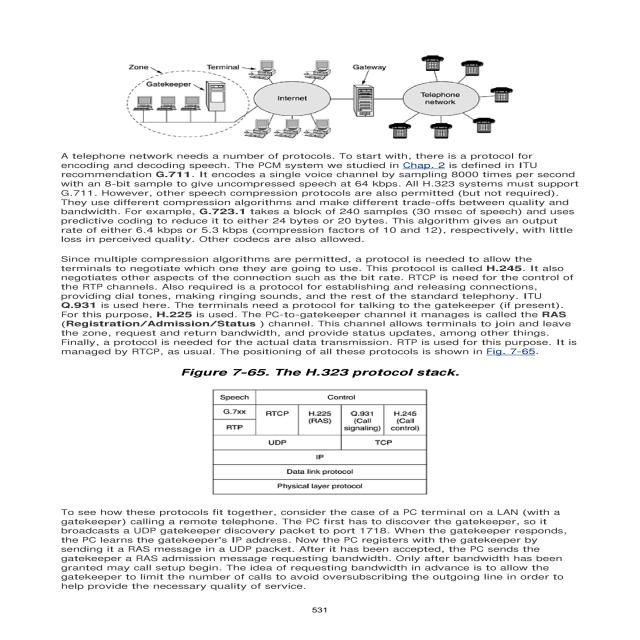diagram: (93, 33, 561, 151), (175, 364, 489, 498)
